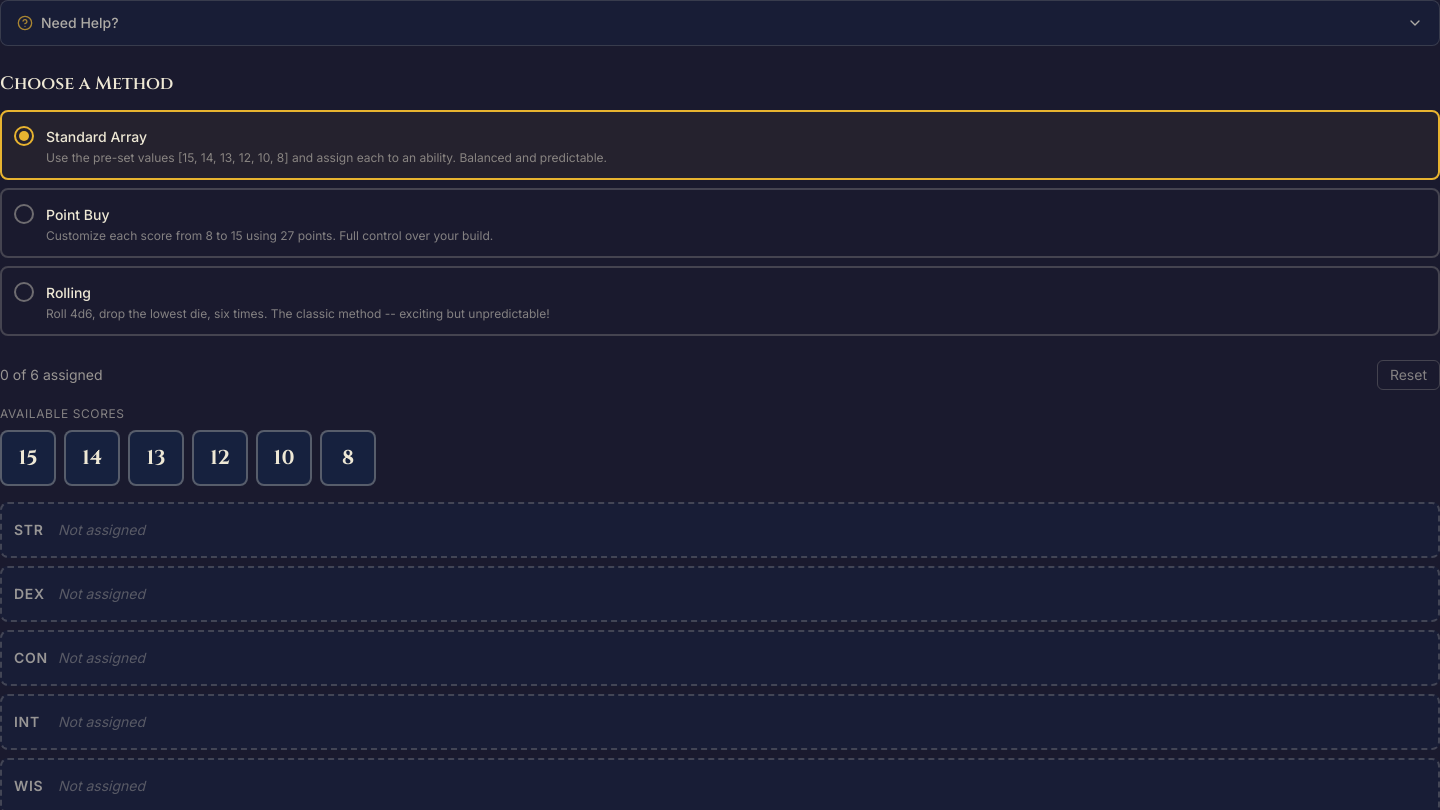
Test: AbilityScoreStep › should render Point Buy interface when Point Buy is selected
Click the text "Point Buy": coordinates (78, 214) [46,206,110,223]
(page scrolled)
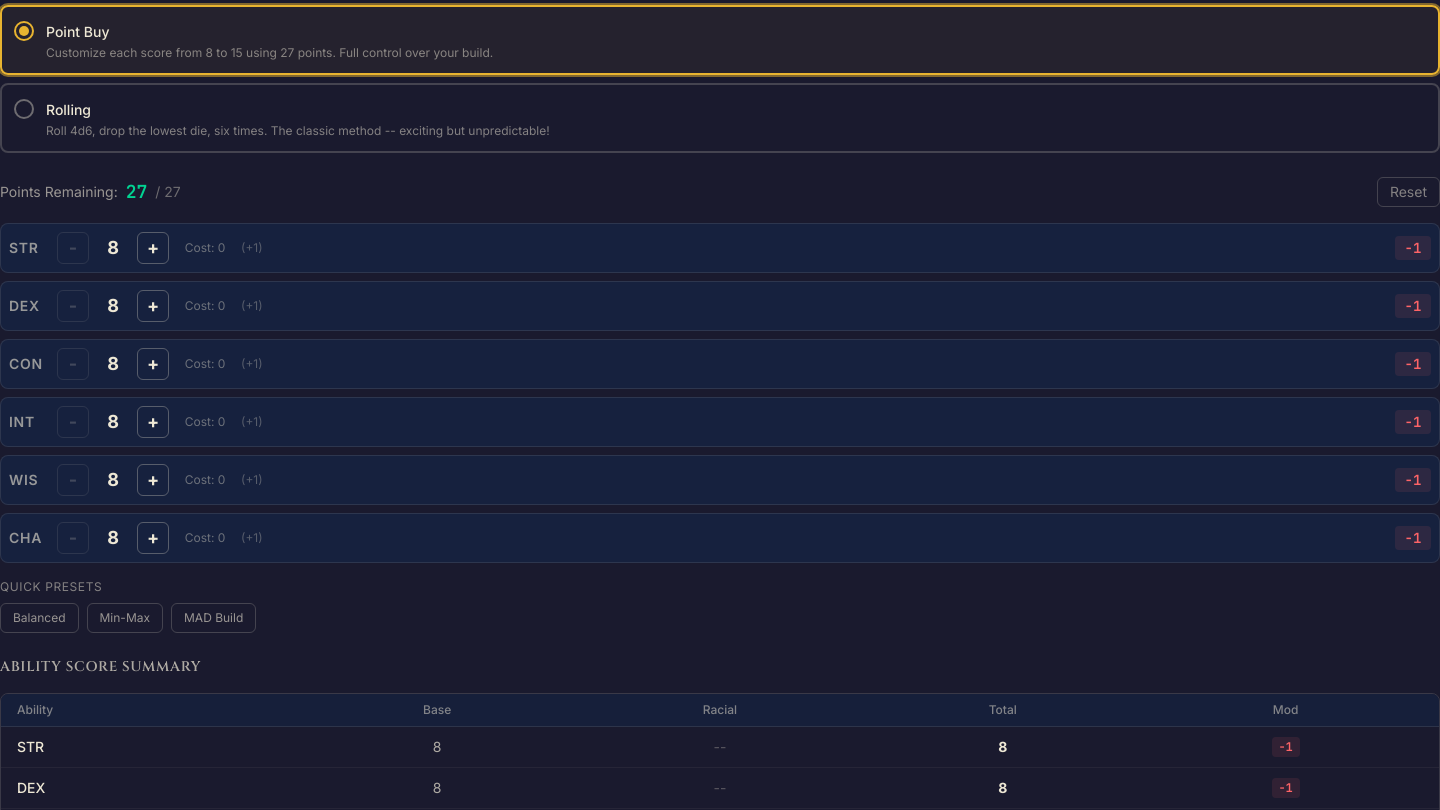
Expected: the element with test id "point-buy-allocator" is shown, [0,177,1439,633]
